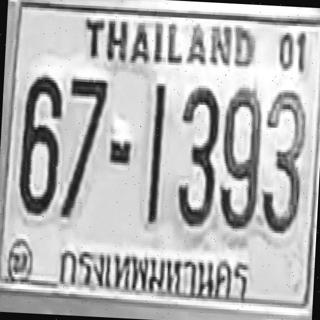N01: (147, 82, 166, 223)
N03: (260, 88, 308, 233), (176, 85, 220, 225)
N06: (17, 73, 62, 213)
N07: (60, 75, 106, 218)
N09: (218, 84, 263, 230)
P04: (50, 236, 254, 318)
